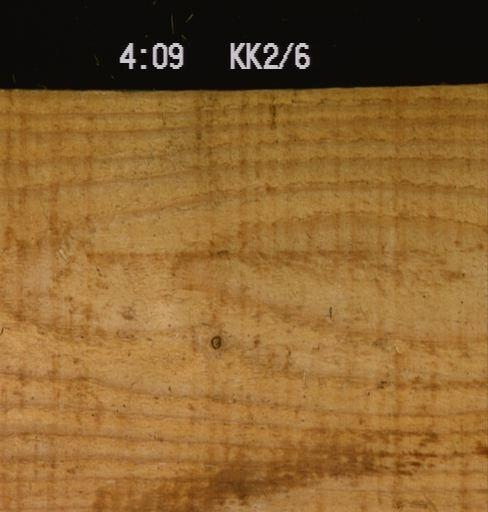dry_knot: (209, 334, 222, 349)
